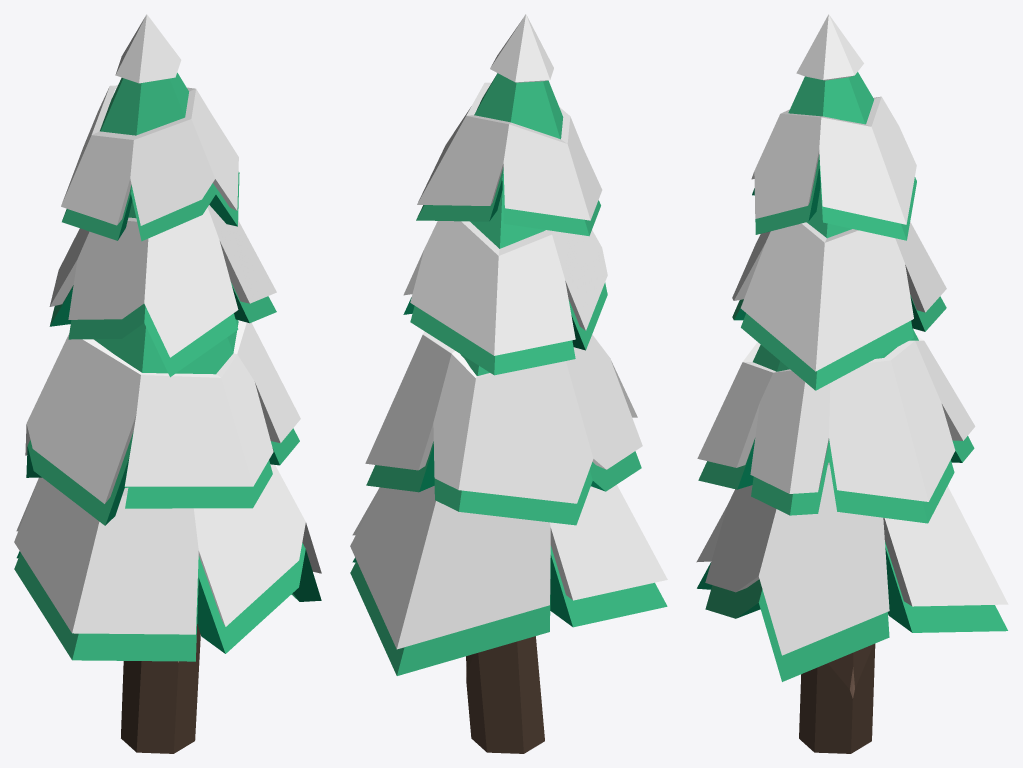
File: SnowTree_01.glb
The picture shows the model from 3 angles, left to right: view 1: azimuth 30°, elevation 25°; view 2: azimuth 150°, elevation 25°; view 3: azimuth 270°, elevation 25°; orthographic projection.
Parts seen in each view (by area): view 1: SnowTree_01; view 2: SnowTree_01; view 3: SnowTree_01.
Part boxes in pixels (x1,y1,x2,y2): SnowTree_01: (14,14,321,753); SnowTree_01: (350,14,667,753); SnowTree_01: (696,14,1008,753).
Size of what is drawn, in the model's own units: 2.71 by 7.28 by 2.86.
Materials: 1 (1 with a texture image).
